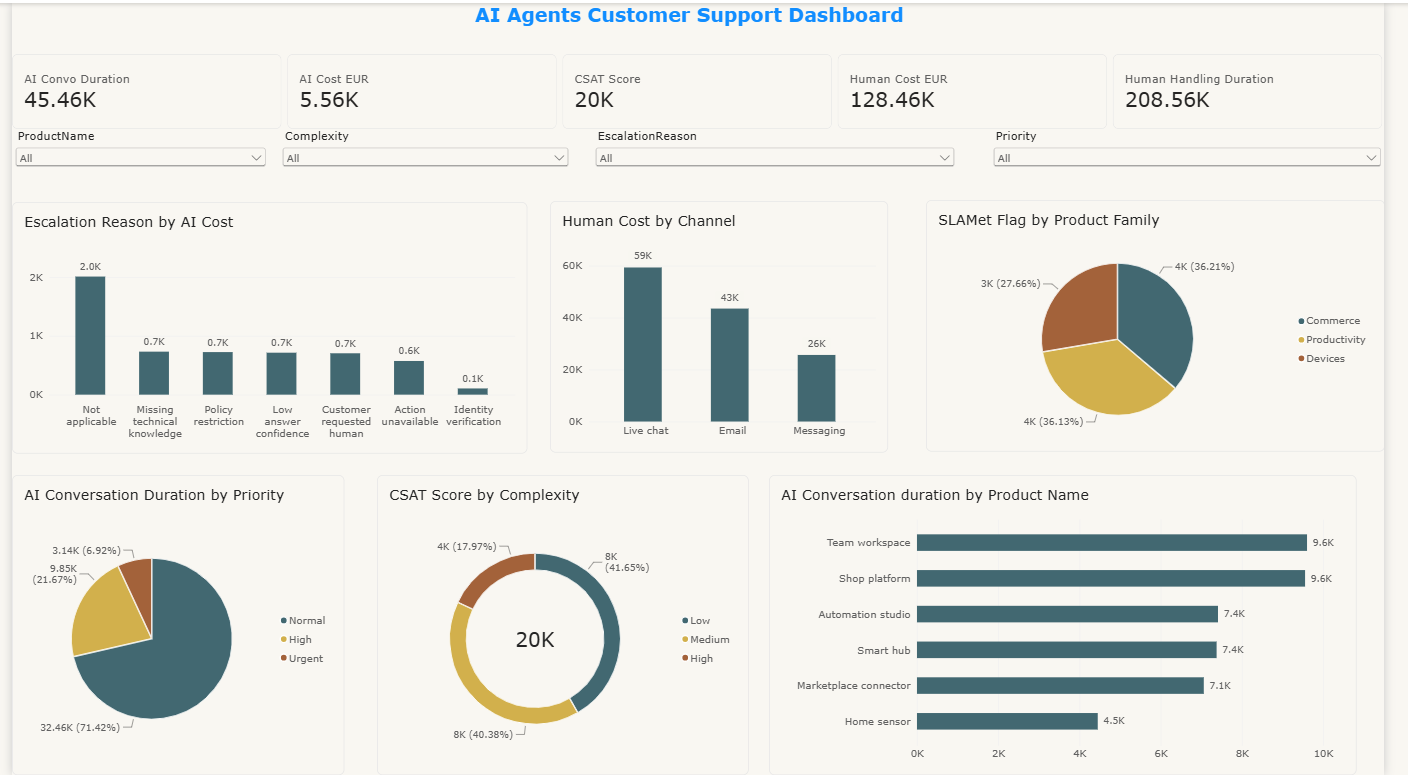

This screenshot's page, from the dashboard's own definition file:
{"tool":"powerbi","page":{"name":"Page 1","canvas":[1920,1080],"ordinal":0},"visuals":[{"type":"clusteredBarChart","title":"AI Conversation duration by Product Name","fields":{"Category":["DimProduct.ProductName"],"Y":["Sum(FactSupportTicketsTable.AIConversationMinutes)"]},"box":[1058.3,660,821.7,420],"z":0},{"type":"pieChart","title":"AI Conversation Duration by Priority","fields":{"Category":["FactSupportTicketsTable.Priority"],"Y":["Sum(FactSupportTicketsTable.AIConversationMinutes)"]},"box":[0,660,465,420],"z":1000},{"type":"clusteredColumnChart","title":"Escalation Reason by AI Cost","fields":{"Category":["FactSupportTicketsTable.EscalationReason"],"Y":["Sum(FactSupportTicketsTable.AICostEUR)"]},"box":[0,278.3,720.9,351.5],"z":2000},{"type":"donutChart","title":"CSAT Score by Complexity","fields":{"Category":["FactSupportTicketsTable.Complexity"],"Y":["Sum(FactSupportTicketsTable.CSATScore)"]},"box":[510,660,520,420],"z":3000},{"type":"lineStackedColumnComboChart","title":"Human Cost by Channel","fields":{"Category":["DimSupportRoute.Channel"],"Y":["Sum(FactSupportTicketsTable.HumanCostEUR)"]},"box":[753.3,276.7,472.9,351.5],"z":4000},{"type":"cardVisual","fields":{"Data":["Sum(FactSupportTicketsTable.AIConversationMinutes)","Sum(FactSupportTicketsTable.AICostEUR)","Sum(FactSupportTicketsTable.CSATScore)","Sum(FactSupportTicketsTable.HumanCostEUR)","Sum(FactSupportTicketsTable.HumanHandlingMinutes)"]},"box":[0,71.7,1920,105],"z":5000},{"type":"pieChart","title":"SLAMet Flag by Product Family","fields":{"Category":["DimProduct.ProductFamily"],"Y":["Sum(FactSupportTicketsTable.SLAMetFlag)"]},"box":[1278.3,275,641.7,351.7],"z":6000},{"type":"slicer","fields":{"Values":["FactSupportTicketsTable.Complexity"]},"box":[373.3,176.7,410,56.7],"z":7000},{"type":"slicer","fields":{"Values":["FactSupportTicketsTable.EscalationReason"]},"box":[811.7,176.7,511.7,56.7],"z":8000},{"type":"slicer","fields":{"Values":["FactSupportTicketsTable.Priority"]},"box":[1368.3,176.7,551.7,56.7],"z":8001},{"type":"slicer","fields":{"Values":["DimProduct.ProductName"]},"box":[0,176.7,360,56.7],"z":8002},{"type":"textbox","box":[648.3,0,675,71.7],"z":8003}]}

Visuals, with their boxes in screenshot pixels (x1, y1, x2, y2), scaled from the page's 1920x1080 canvas onto the 1408x775 screenshot:
"AI Conversation duration by Product Name" clusteredBarChart: rect(776, 474, 1379, 774)
"AI Conversation Duration by Priority" pieChart: rect(0, 474, 341, 774)
"Escalation Reason by AI Cost" clusteredColumnChart: rect(0, 200, 529, 452)
"CSAT Score by Complexity" donutChart: rect(374, 474, 755, 774)
"Human Cost by Channel" lineStackedColumnComboChart: rect(552, 199, 899, 451)
cardVisual - Sum(FactSupportTicketsTable.AIConversationMinutes) x Sum(FactSupportTicketsTable.AICostEUR): rect(0, 51, 1407, 127)
"SLAMet Flag by Product Family" pieChart: rect(937, 197, 1407, 450)
slicer - FactSupportTicketsTable.Complexity: rect(274, 127, 574, 167)
slicer - FactSupportTicketsTable.EscalationReason: rect(595, 127, 970, 167)
slicer - FactSupportTicketsTable.Priority: rect(1003, 127, 1407, 167)
slicer - DimProduct.ProductName: rect(0, 127, 264, 167)
textbox: rect(475, 0, 970, 51)
